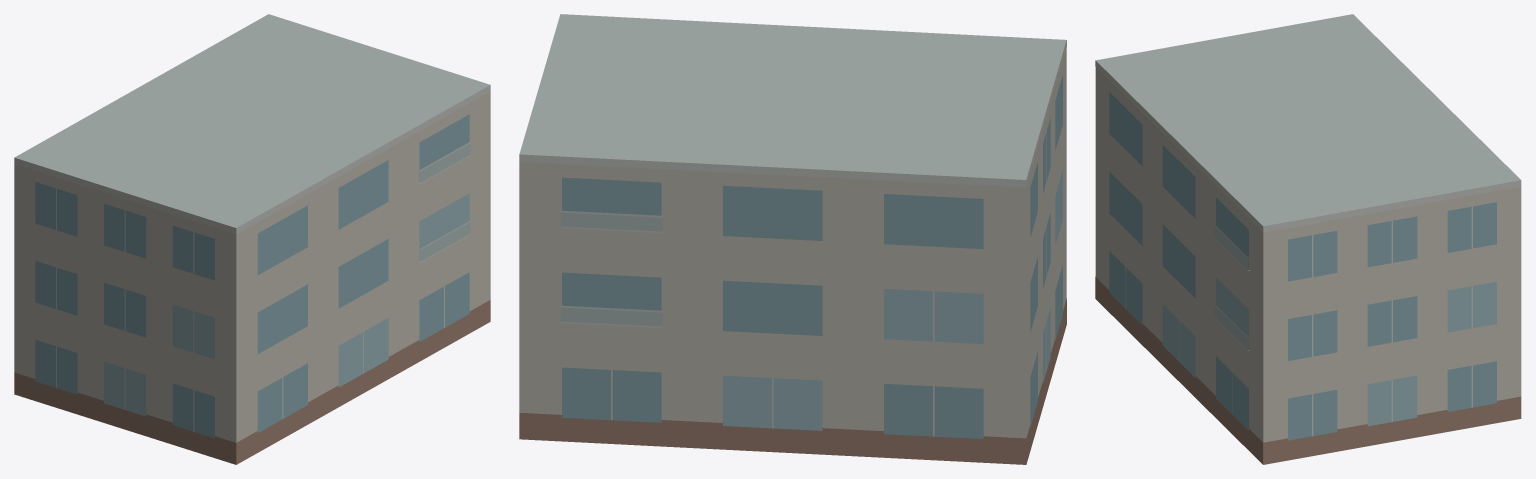
Rendered from survey-upis-32750218.glb.
3 renders of one model, left to right at view 1: azimuth 30°, elevation 25°; view 2: azimuth 150°, elevation 25°; view 3: azimuth 270°, elevation 25°, orthographic. The views are drawn at different scales.
Parts seen in each view (by area): view 1: survey-upis-32750218.tmp; view 2: survey-upis-32750218.tmp; view 3: survey-upis-32750218.tmp.
Boxes of the visible parts, x1,y1,x2,y2 form: survey-upis-32750218.tmp: (14, 14, 490, 464); survey-upis-32750218.tmp: (519, 14, 1066, 464); survey-upis-32750218.tmp: (1095, 14, 1521, 464).
Bounding box in the file's own units: 17.47 × 9.15 × 14.81.
